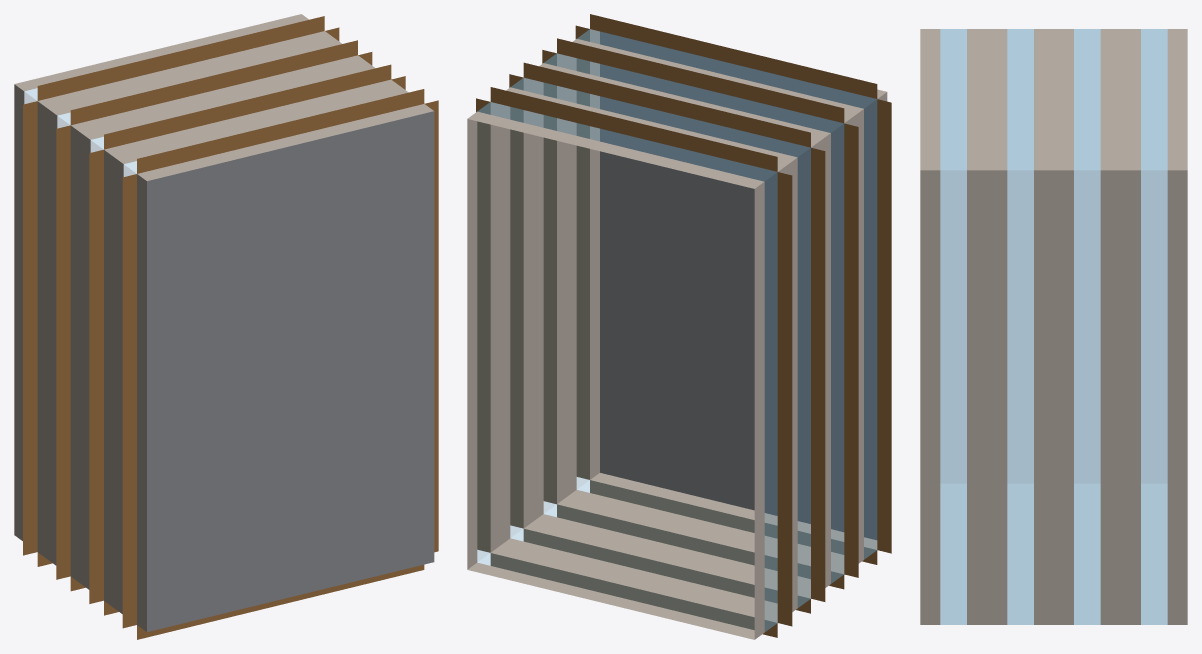
The picture shows the model from 3 angles, left to right: view 1: azimuth 30°, elevation 25°; view 2: azimuth 150°, elevation 25°; view 3: azimuth 270°, elevation 25°; orthographic projection.
Parts seen in each view (by area): view 1: Atap_Beton, Dinding_Bata, Peneduh_Overhang, Kaca_Jendela; view 2: Atap_Beton, Peneduh_Overhang, Dinding_Bata, Kaca_Jendela; view 3: Dinding_Bata, Kaca_Jendela.
Part boxes in pixels (box(x1,y1,x2,y2)): Atap_Beton: box(147, 111, 434, 631); Dinding_Bata: box(14, 14, 433, 631); Peneduh_Overhang: box(23, 16, 438, 639); Kaca_Jendela: box(24, 88, 136, 176); Atap_Beton: box(600, 31, 877, 540); Peneduh_Overhang: box(476, 14, 891, 637); Dinding_Bata: box(467, 29, 887, 639); Kaca_Jendela: box(477, 29, 876, 631); Dinding_Bata: box(920, 29, 1187, 624); Kaca_Jendela: box(940, 29, 1167, 624).
Bounding box in the file's own units: 22 × 32 × 16.
